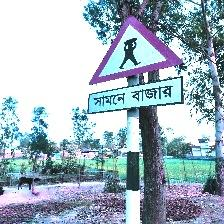Market-in-front: (87, 14, 185, 115)
